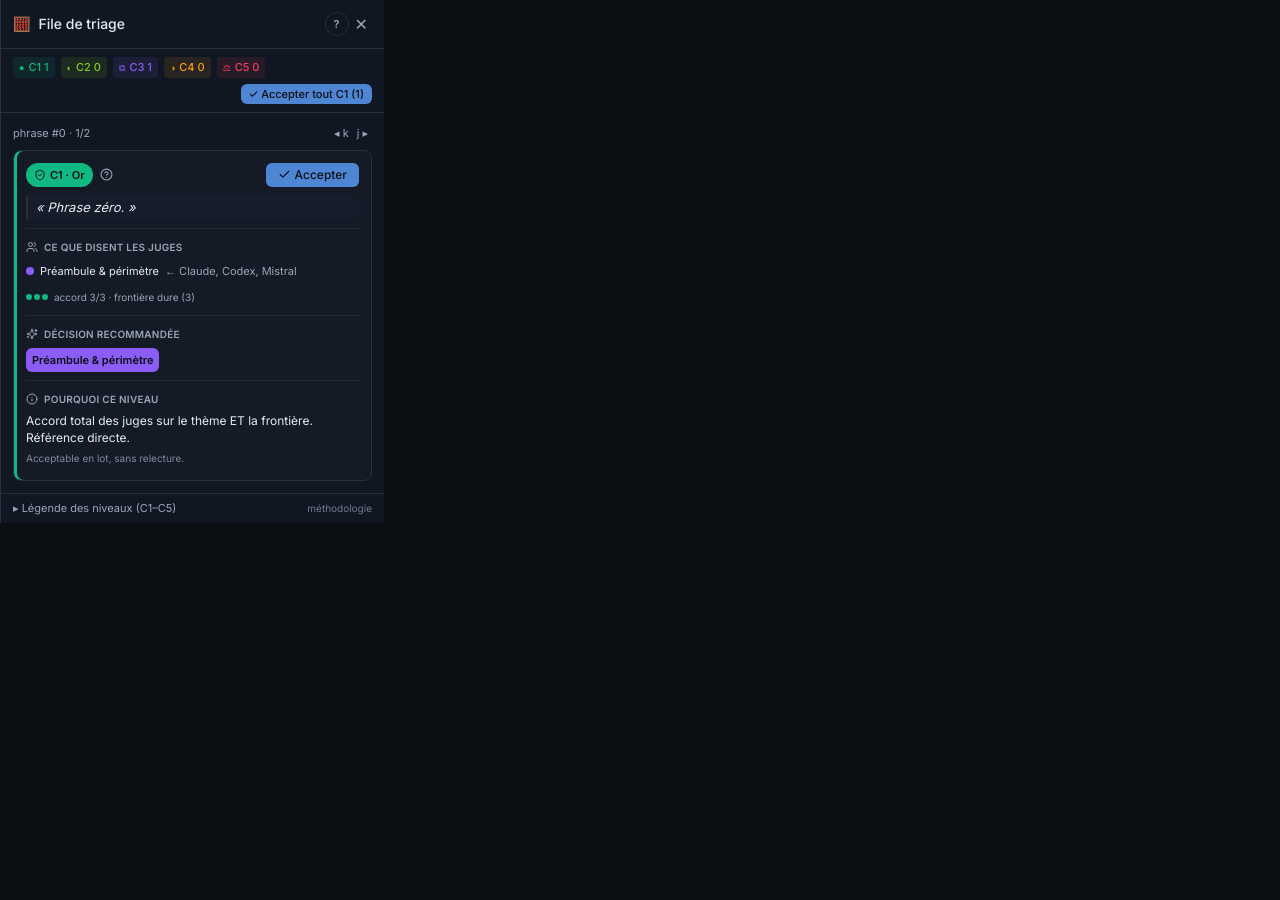
Test: TriageQueueView — navigation & gestes › bouton « ? » ouvre la modale d'aide listant les 5 niveaux, Échap la ferme
Click the button with test id "triage-help-open" at (337, 24), box [325, 12, 349, 36]
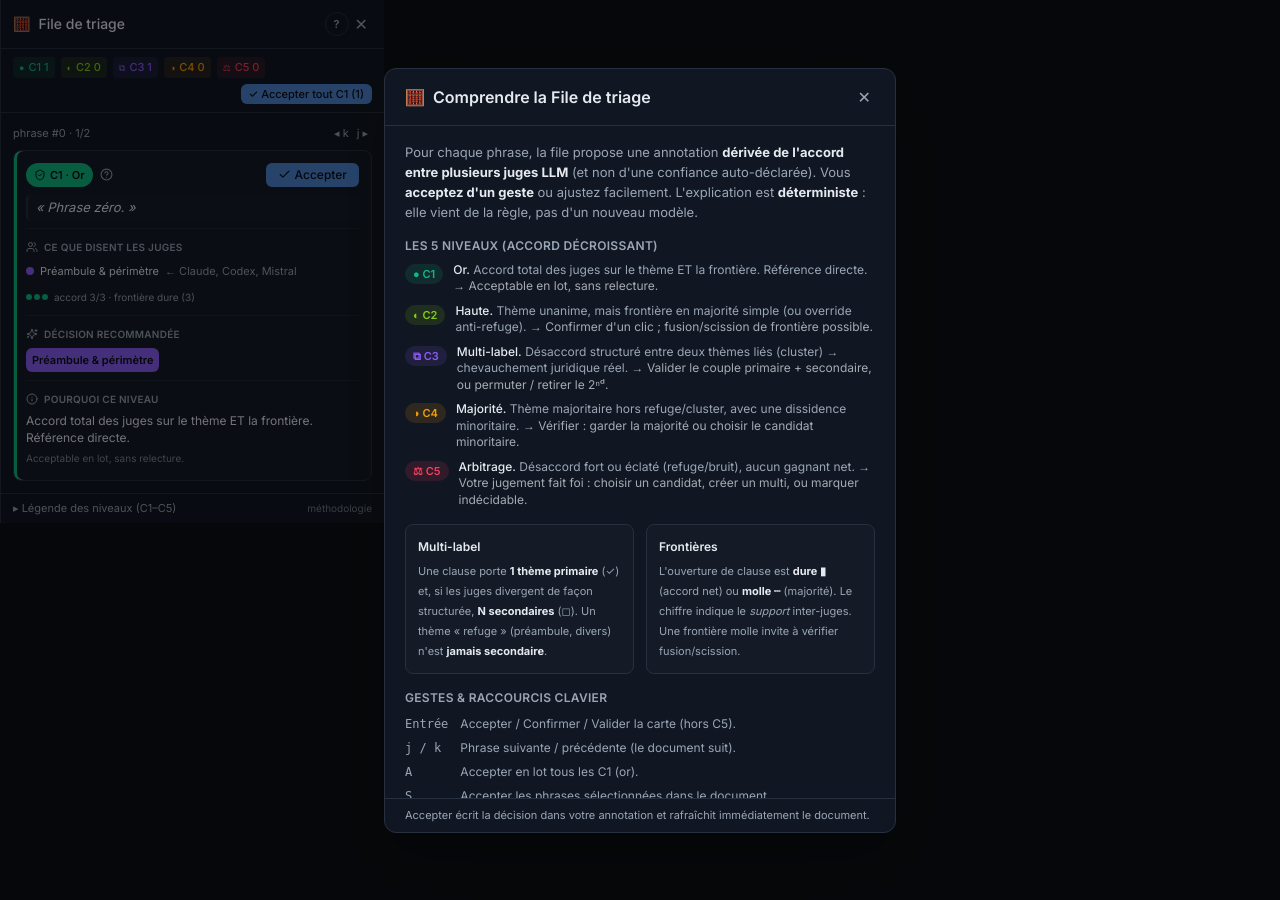
Now the dialog with test id "triage-help-modal" is shown, box [384, 68, 896, 832]
Press Escape
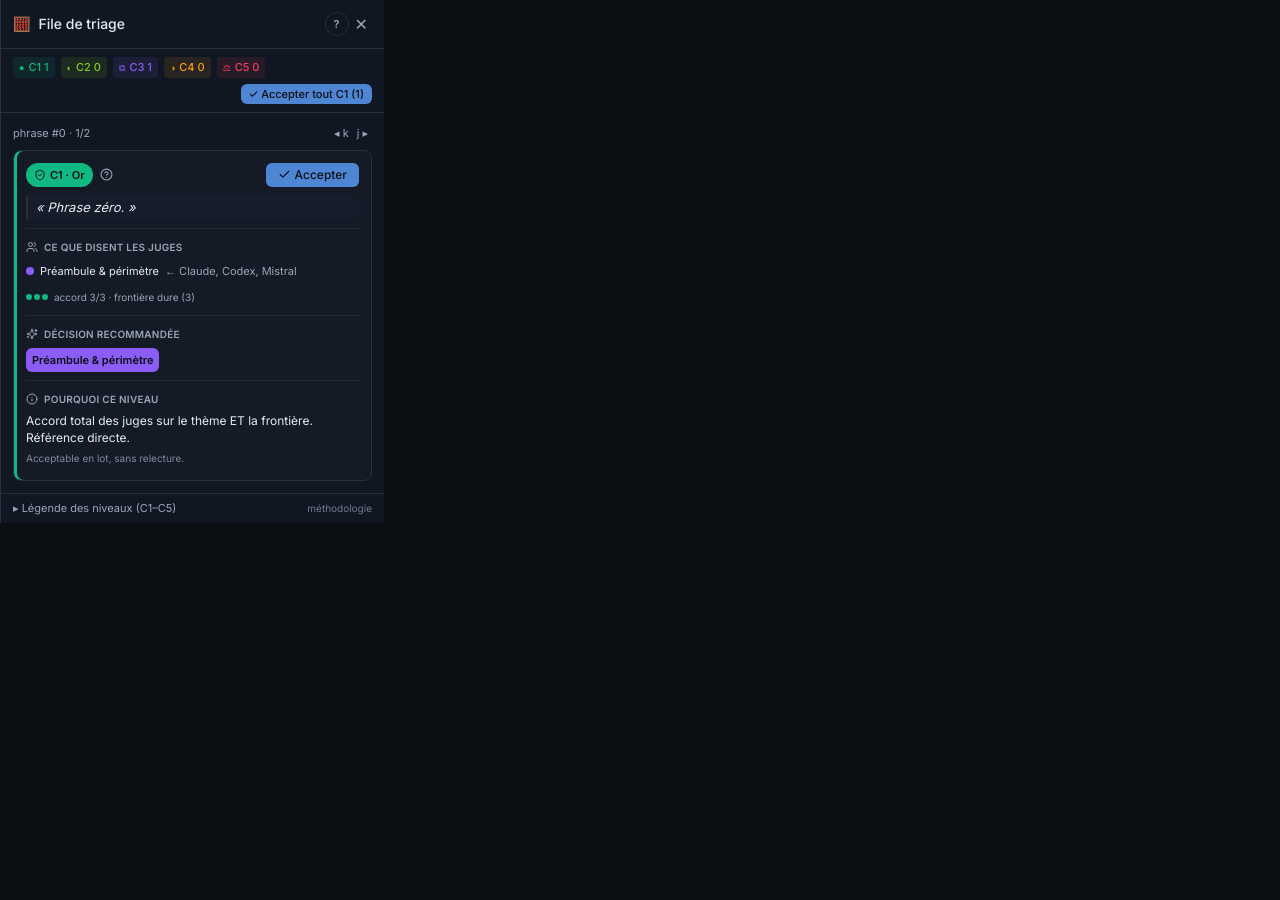
Now the dialog with test id "triage-help-modal" is gone
